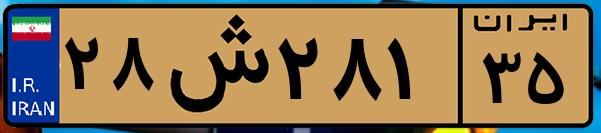1: (385, 28, 445, 110)
2: (270, 28, 330, 110), (57, 26, 110, 100)
3: (475, 38, 525, 113)
5: (525, 38, 570, 115)
8: (330, 28, 385, 110), (110, 28, 158, 98)
ش: (158, 12, 270, 120)
